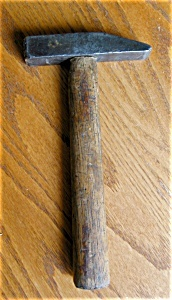hammer: (22, 27, 154, 292)
